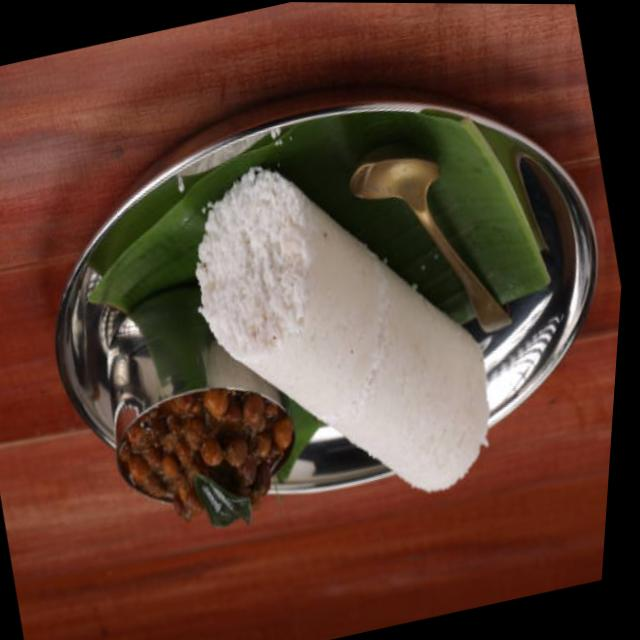PUTTU: (171, 153, 507, 500)
SUNDAL: (114, 374, 302, 516)
